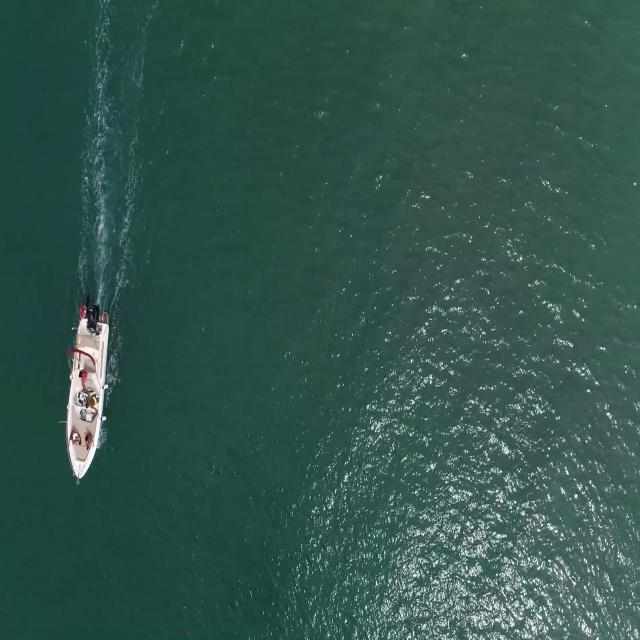boat: (65, 318, 109, 487)
life_buoy: (79, 306, 87, 318)
person: (84, 394, 100, 417), (68, 426, 81, 452), (78, 367, 88, 391), (84, 432, 94, 451)
